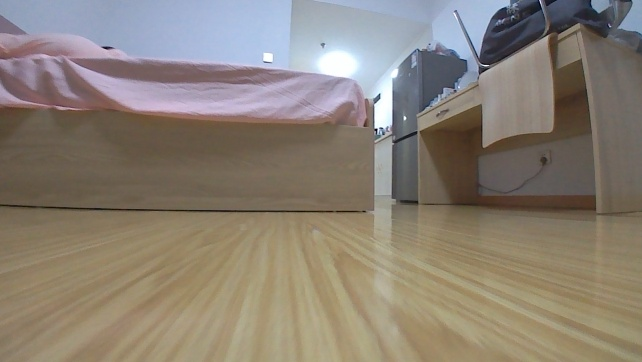bed1: (0, 11, 376, 216)
refrigerator: (388, 47, 468, 205)
wire: (479, 160, 546, 196)
